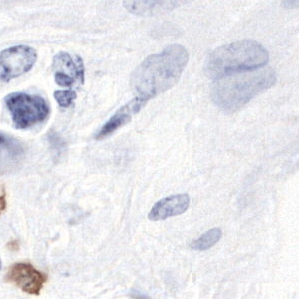Lymphocyte: (6, 259, 45, 294)
